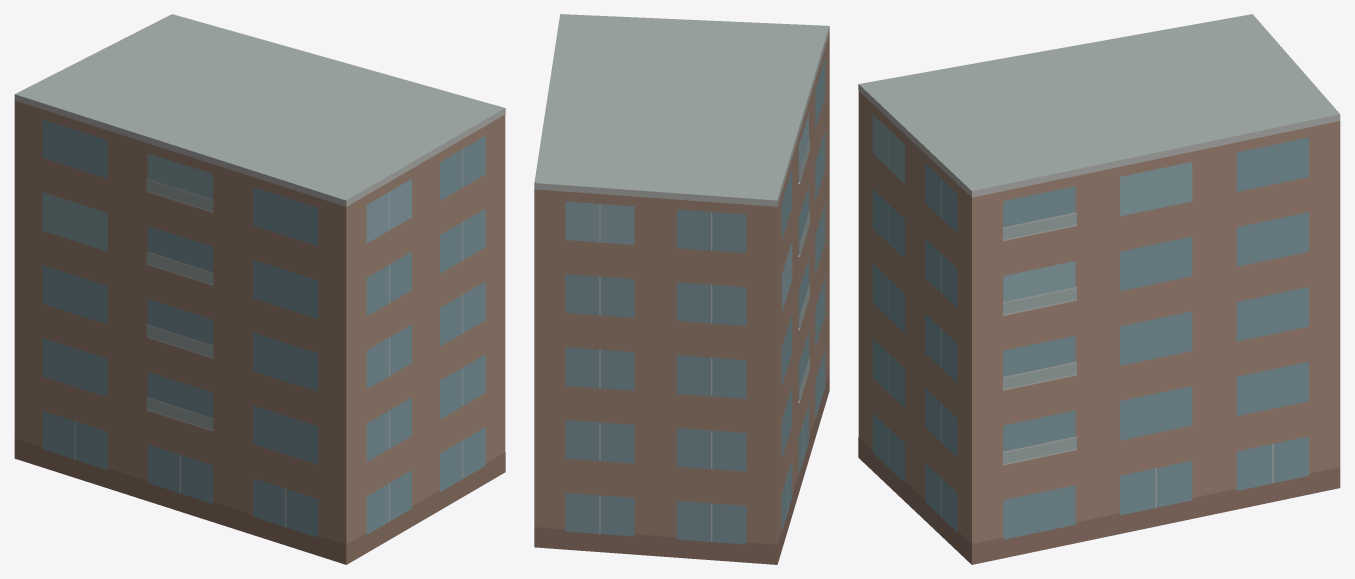
File: survey-upis-32528016.glb
3 views of the same model, side by side, from view 1: azimuth 30°, elevation 25°; view 2: azimuth 150°, elevation 25°; view 3: azimuth 270°, elevation 25° (orthographic). The views are drawn at different scales.
Visible parts, largest first — view 1: survey-upis-32528016.tmp; view 2: survey-upis-32528016.tmp; view 3: survey-upis-32528016.tmp.
Part boxes in pixels (x1=…): survey-upis-32528016.tmp: x1=14, y1=14, x2=505, y2=564; survey-upis-32528016.tmp: x1=534, y1=14, x2=829, y2=564; survey-upis-32528016.tmp: x1=858, y1=14, x2=1340, y2=564.
Bounding box in the file's own units: 14.25 × 14 × 16.37.
